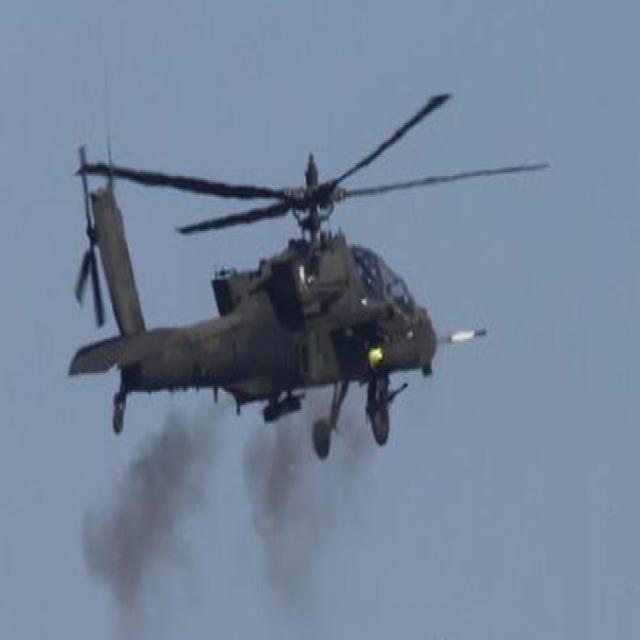Apache: (59, 93, 552, 462)
